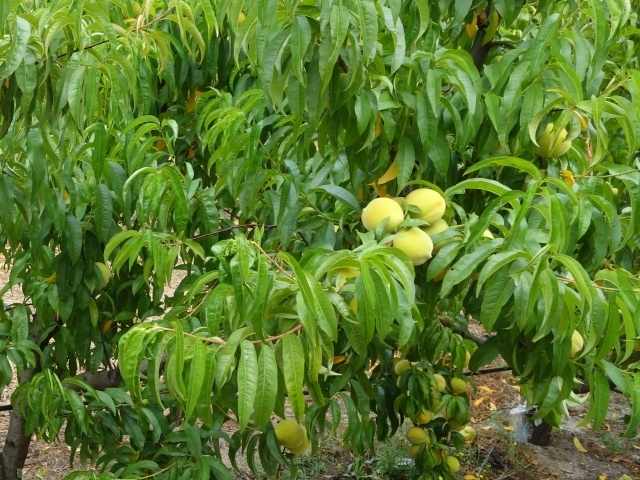peach: (359, 192, 406, 240), (390, 221, 435, 269), (526, 119, 574, 162), (402, 184, 449, 223), (415, 210, 458, 247), (275, 417, 306, 449), (448, 372, 471, 400), (404, 423, 428, 448), (457, 422, 481, 446), (439, 453, 462, 476), (429, 371, 450, 396), (392, 358, 414, 380), (414, 405, 433, 429), (406, 438, 424, 460)
